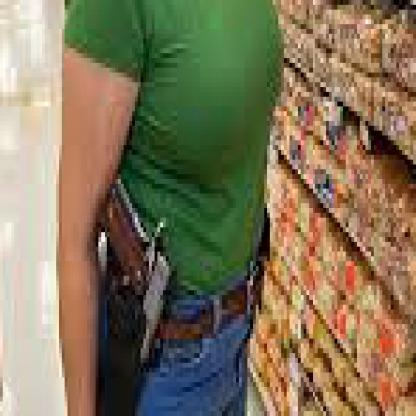gun: (208, 208, 413, 411)
